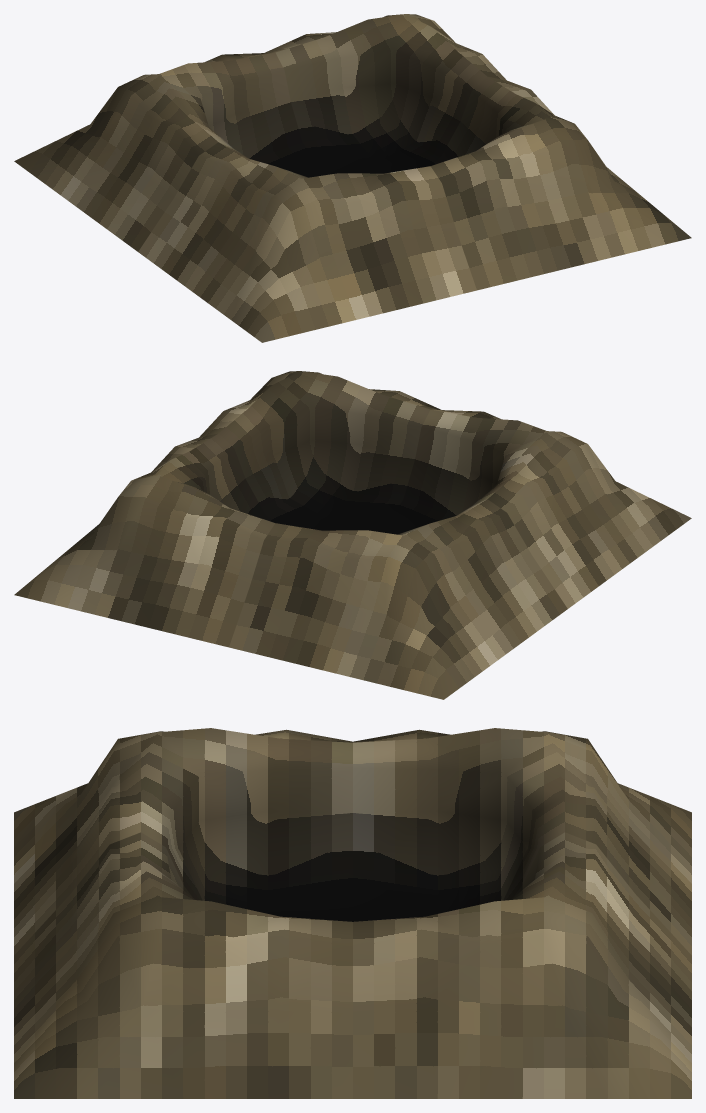
Rendered from eldritch_crab_spawner.obj.
3 views of the same model, one above another, from view 1: azimuth 30°, elevation 25°; view 2: azimuth 150°, elevation 25°; view 3: azimuth 270°, elevation 25° (orthographic). The views are drawn at different scales.
Parts seen in each view (by area): view 1: crab_vent; view 2: crab_vent; view 3: crab_vent.
Part boxes in pixels (box(x1,y1,x2,y2)): crab_vent: box(14, 14, 691, 342); crab_vent: box(14, 371, 691, 699); crab_vent: box(14, 728, 691, 1098).
Bounding box in the file's own units: 1 × 0.2295 × 1.
